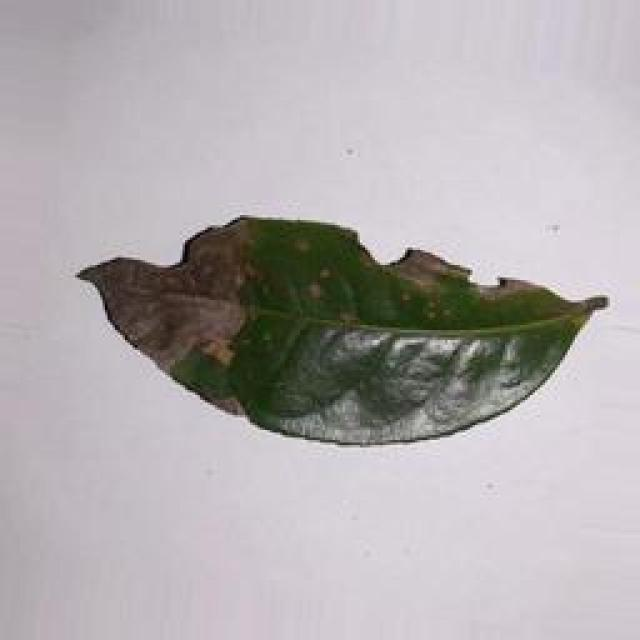Brown Blight: (68, 208, 617, 448)
